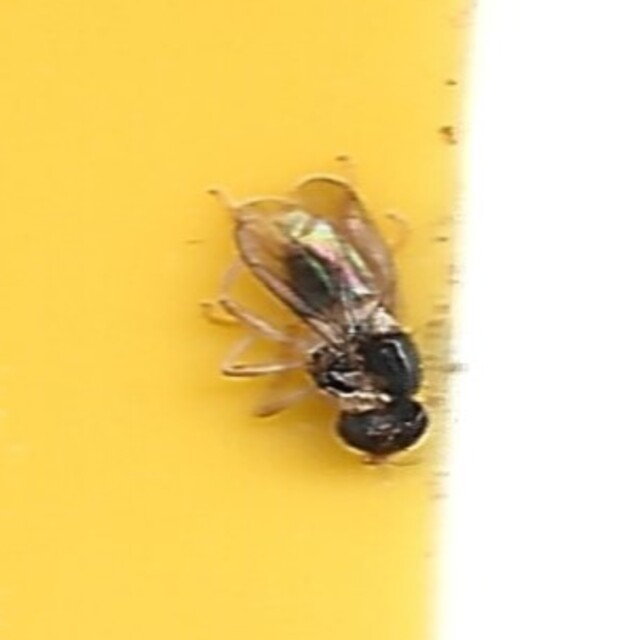Brachycera: (211, 169, 429, 471)
